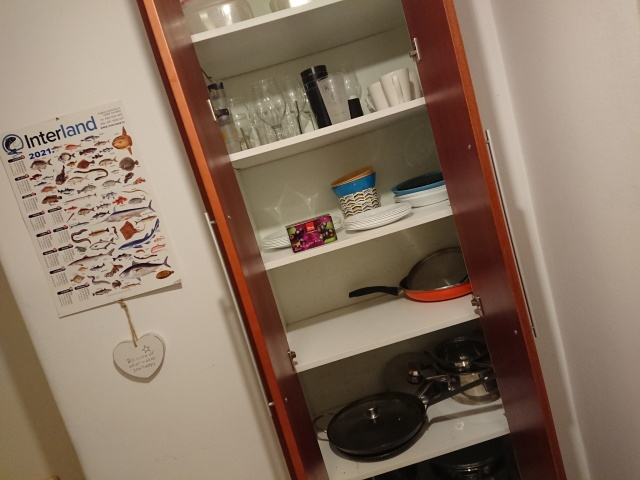Franck Black Currant Tea 60g: (282, 211, 340, 255)
